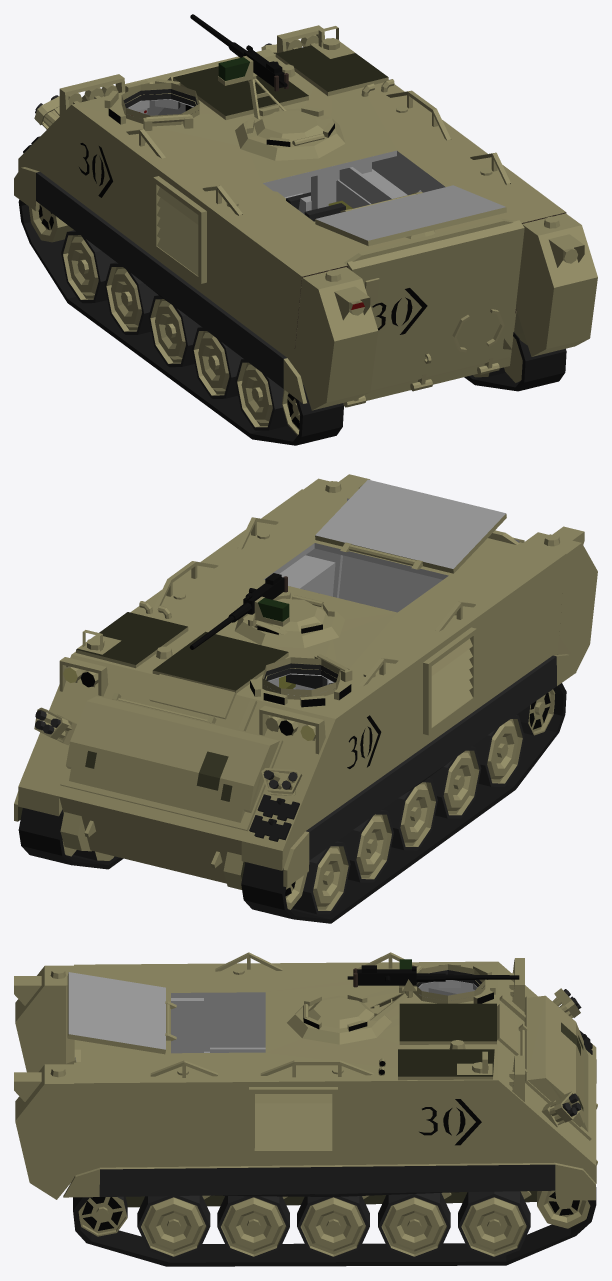
The picture shows the model from 3 angles, top to bottom: view 1: azimuth 30°, elevation 25°; view 2: azimuth 150°, elevation 25°; view 3: azimuth 270°, elevation 25°; orthographic projection. The views are drawn at different scales.
Visible parts, largest first — view 1: ShapeIndexedFaceSet.002_ShapeIndexedFaceSet.003, ShapeIndexedFaceSet.024_ShapeIndexedFaceSet.025, ShapeIndexedFaceSet.005_ShapeIndexedFaceSet.006, ShapeIndexedFaceSet.009_ShapeIndexedFaceSet.010, ShapeIndexedFaceSet.040_ShapeIndexedFaceSet.041, ShapeIndexedFaceSet.042_ShapeIndexedFaceSet.043, ShapeIndexedFaceSet.046_ShapeIndexedFaceSet.047, ShapeIndexedFaceSet.008_ShapeIndexedFaceSet.009, ShapeIndexedFaceSet.023_ShapeIndexedFaceSet.024, ShapeIndexedFaceSet.012_ShapeIndexedFaceSet.013, ShapeIndexedFaceSet.041_ShapeIndexedFaceSet.042, ShapeIndexedFaceSet.036_ShapeIndexedFaceSet.037 (+11 smaller); view 2: ShapeIndexedFaceSet.002_ShapeIndexedFaceSet.003, ShapeIndexedFaceSet.005_ShapeIndexedFaceSet.006, ShapeIndexedFaceSet.023_ShapeIndexedFaceSet.024, ShapeIndexedFaceSet.009_ShapeIndexedFaceSet.010, ShapeIndexedFaceSet.042_ShapeIndexedFaceSet.043, ShapeIndexedFaceSet.040_ShapeIndexedFaceSet.041, ShapeIndexedFaceSet.008_ShapeIndexedFaceSet.009, ShapeIndexedFaceSet.012_ShapeIndexedFaceSet.013, ShapeIndexedFaceSet.026_ShapeIndexedFaceSet.027, ShapeIndexedFaceSet.041_ShapeIndexedFaceSet.042, ShapeIndexedFaceSet.046_ShapeIndexedFaceSet.047, ShapeIndexedFaceSet.036_ShapeIndexedFaceSet.037 (+10 smaller); view 3: ShapeIndexedFaceSet.002_ShapeIndexedFaceSet.003, ShapeIndexedFaceSet.005_ShapeIndexedFaceSet.006, ShapeIndexedFaceSet.009_ShapeIndexedFaceSet.010, ShapeIndexedFaceSet.040_ShapeIndexedFaceSet.041, ShapeIndexedFaceSet.036_ShapeIndexedFaceSet.037, ShapeIndexedFaceSet.046_ShapeIndexedFaceSet.047, ShapeIndexedFaceSet.023_ShapeIndexedFaceSet.024, ShapeIndexedFaceSet.008_ShapeIndexedFaceSet.009, ShapeIndexedFaceSet.042_ShapeIndexedFaceSet.043, ShapeIndexedFaceSet.038_ShapeIndexedFaceSet.039, ShapeIndexedFaceSet.039_ShapeIndexedFaceSet.040, ShapeIndexedFaceSet.041_ShapeIndexedFaceSet.042 (+10 smaller).
Part boxes in pixels (left/top/right/bottom): ShapeIndexedFaceSet.002_ShapeIndexedFaceSet.003: left=18, top=55, right=597, bottom=410; ShapeIndexedFaceSet.024_ShapeIndexedFaceSet.025: left=347, top=220, right=524, bottom=401; ShapeIndexedFaceSet.005_ShapeIndexedFaceSet.006: left=14, top=25, right=584, bottom=407; ShapeIndexedFaceSet.009_ShapeIndexedFaceSet.010: left=36, top=102, right=286, bottom=388; ShapeIndexedFaceSet.040_ShapeIndexedFaceSet.041: left=31, top=208, right=299, bottom=434; ShapeIndexedFaceSet.042_ShapeIndexedFaceSet.043: left=21, top=202, right=566, bottom=445; ShapeIndexedFaceSet.046_ShapeIndexedFaceSet.047: left=127, top=99, right=445, bottom=214; ShapeIndexedFaceSet.008_ShapeIndexedFaceSet.009: left=173, top=45, right=388, bottom=115; ShapeIndexedFaceSet.023_ShapeIndexedFaceSet.024: left=315, top=185, right=505, bottom=240; ShapeIndexedFaceSet.012_ShapeIndexedFaceSet.013: left=43, top=35, right=575, bottom=407; ShapeIndexedFaceSet.041_ShapeIndexedFaceSet.042: left=67, top=230, right=519, bottom=430; ShapeIndexedFaceSet.036_ShapeIndexedFaceSet.037: left=28, top=204, right=522, bottom=435; ShapeIndexedFaceSet.002_ShapeIndexedFaceSet.003: left=18, top=478, right=597, bottom=883; ShapeIndexedFaceSet.005_ShapeIndexedFaceSet.006: left=14, top=474, right=584, bottom=887; ShapeIndexedFaceSet.023_ShapeIndexedFaceSet.024: left=315, top=479, right=505, bottom=568; ShapeIndexedFaceSet.009_ShapeIndexedFaceSet.010: left=35, top=655, right=556, bottom=860; ShapeIndexedFaceSet.042_ShapeIndexedFaceSet.043: left=18, top=685, right=563, bottom=919; ShapeIndexedFaceSet.040_ShapeIndexedFaceSet.041: left=286, top=690, right=554, bottom=910; ShapeIndexedFaceSet.008_ShapeIndexedFaceSet.009: left=76, top=612, right=288, bottom=690; ShapeIndexedFaceSet.012_ShapeIndexedFaceSet.013: left=42, top=484, right=559, bottom=889; ShapeIndexedFaceSet.026_ShapeIndexedFaceSet.027: left=339, top=498, right=519, bottom=612; ShapeIndexedFaceSet.041_ShapeIndexedFaceSet.042: left=73, top=705, right=533, bottom=913; ShapeIndexedFaceSet.046_ShapeIndexedFaceSet.047: left=263, top=543, right=448, bottom=695; ShapeIndexedFaceSet.036_ShapeIndexedFaceSet.037: left=62, top=689, right=555, bottom=909; ShapeIndexedFaceSet.002_ShapeIndexedFaceSet.003: left=15, top=961, right=596, bottom=1199; ShapeIndexedFaceSet.005_ShapeIndexedFaceSet.006: left=14, top=952, right=597, bottom=1200; ShapeIndexedFaceSet.009_ShapeIndexedFaceSet.010: left=99, top=998, right=581, bottom=1196; ShapeIndexedFaceSet.040_ShapeIndexedFaceSet.041: left=79, top=1190, right=586, bottom=1256; ShapeIndexedFaceSet.036_ShapeIndexedFaceSet.037: left=78, top=1190, right=590, bottom=1254; ShapeIndexedFaceSet.046_ShapeIndexedFaceSet.047: left=171, top=981, right=477, bottom=1053; ShapeIndexedFaceSet.023_ShapeIndexedFaceSet.024: left=68, top=972, right=165, bottom=1049; ShapeIndexedFaceSet.008_ShapeIndexedFaceSet.009: left=398, top=1003, right=496, bottom=1076; ShapeIndexedFaceSet.042_ShapeIndexedFaceSet.043: left=73, top=1187, right=596, bottom=1262; ShapeIndexedFaceSet.038_ShapeIndexedFaceSet.039: left=137, top=1194, right=530, bottom=1259; ShapeIndexedFaceSet.039_ShapeIndexedFaceSet.040: left=73, top=1192, right=595, bottom=1266; ShapeIndexedFaceSet.041_ShapeIndexedFaceSet.042: left=117, top=1191, right=530, bottom=1226.
Size of the model in its own units: 28.88 by 26.29 by 57.65.
